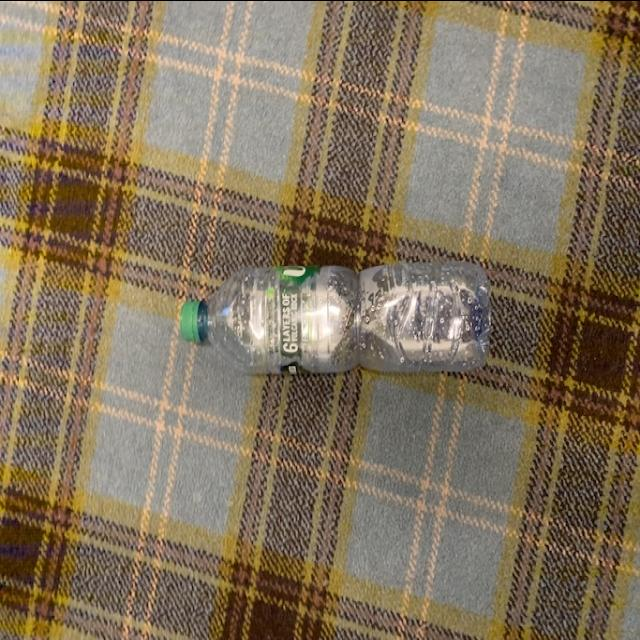PET: (182, 262, 496, 376)
